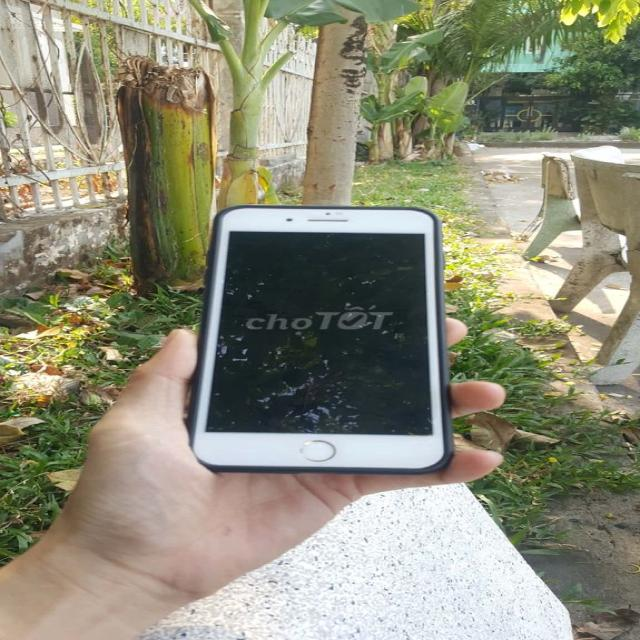gen_7_8: (188, 207, 452, 474)
